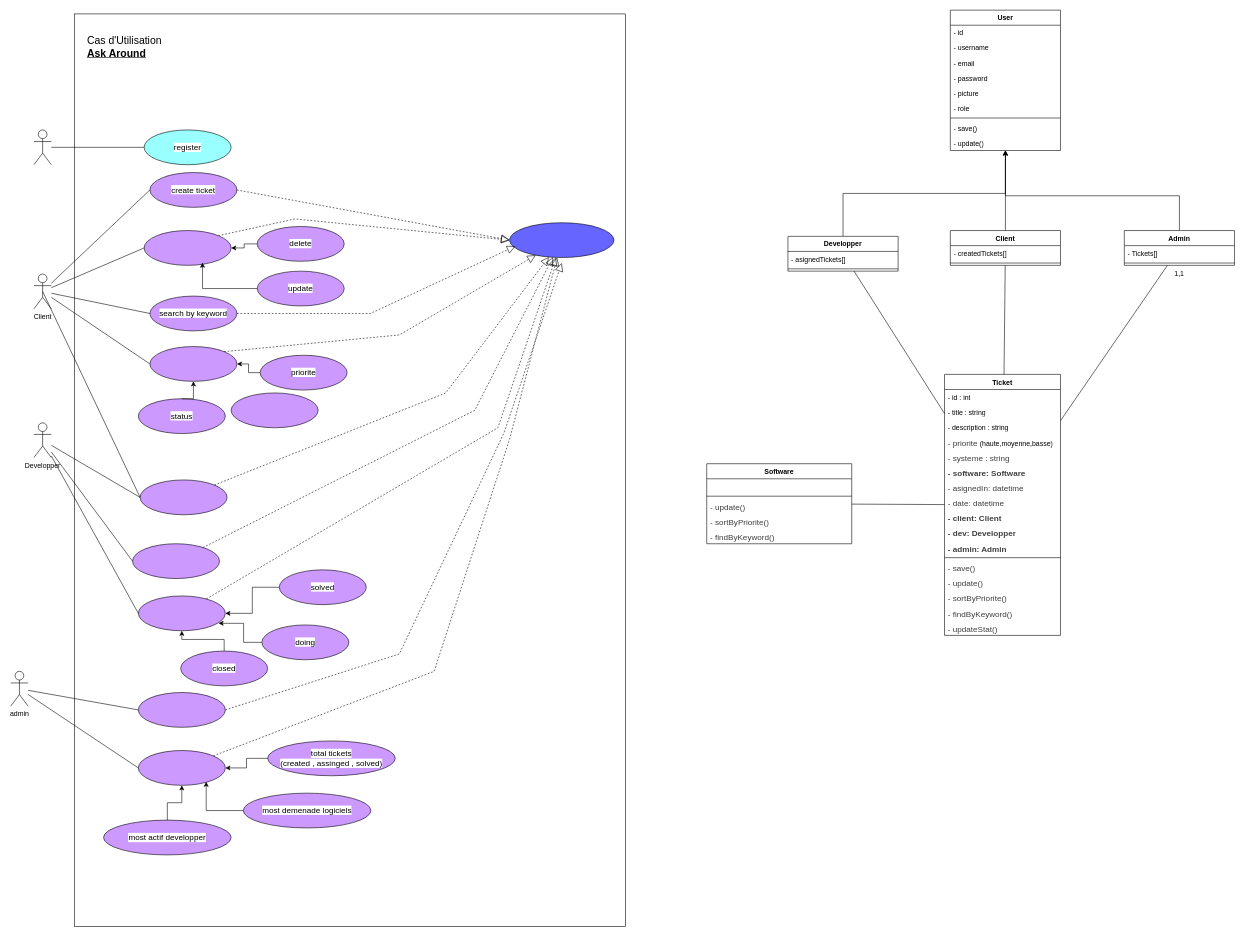
The diagram is 1245 pixels wide and 937 high, and some of its shapes have lost their labels. The centre of each missing label's shape, as x and y in pixels:
assign ticket: the point at 181,709
Authentification: the point at 561,240
Guest: the point at 42,147
handle tickets: the point at 187,247
logiciel: the point at 274,410
see asinged tikets: the point at 176,561
sort by: the point at 193,363
statistic: the point at 181,767
update profil: the point at 183,497
update state: the point at 181,613
